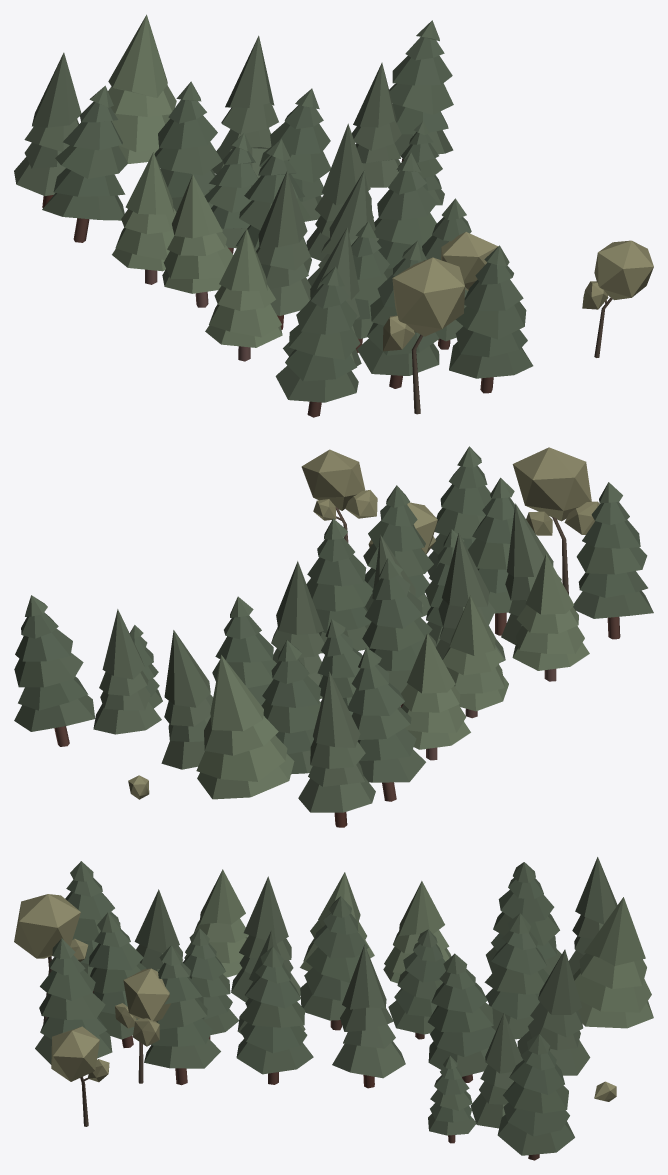
Rendered from Farm02Forestblend.fbx.
3 views of the same model, one above another, from view 1: azimuth 30°, elevation 25°; view 2: azimuth 150°, elevation 25°; view 3: azimuth 270°, elevation 25° (orthographic). The views are drawn at different scales.
Parts seen in each view (by area): view 1: Scene.003; view 2: Scene.003; view 3: Scene.003.
Part boxes in pixels (<box>): Scene.003: <box>14,14,653,417</box>; Scene.003: <box>14,446,653,827</box>; Scene.003: <box>14,857,653,1160</box>.
Bounding box in the file's own units: 1307 × 552 × 1921.
Materials: 1 (1 with a texture image).
